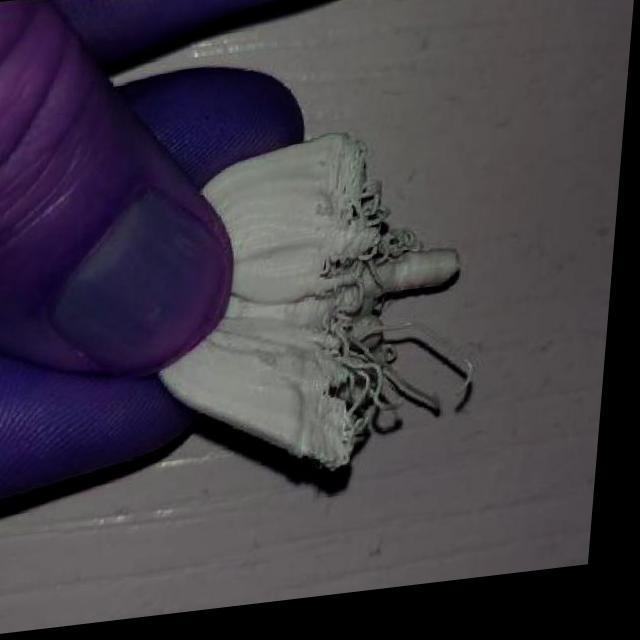spaghetti: (308, 132, 497, 481)
